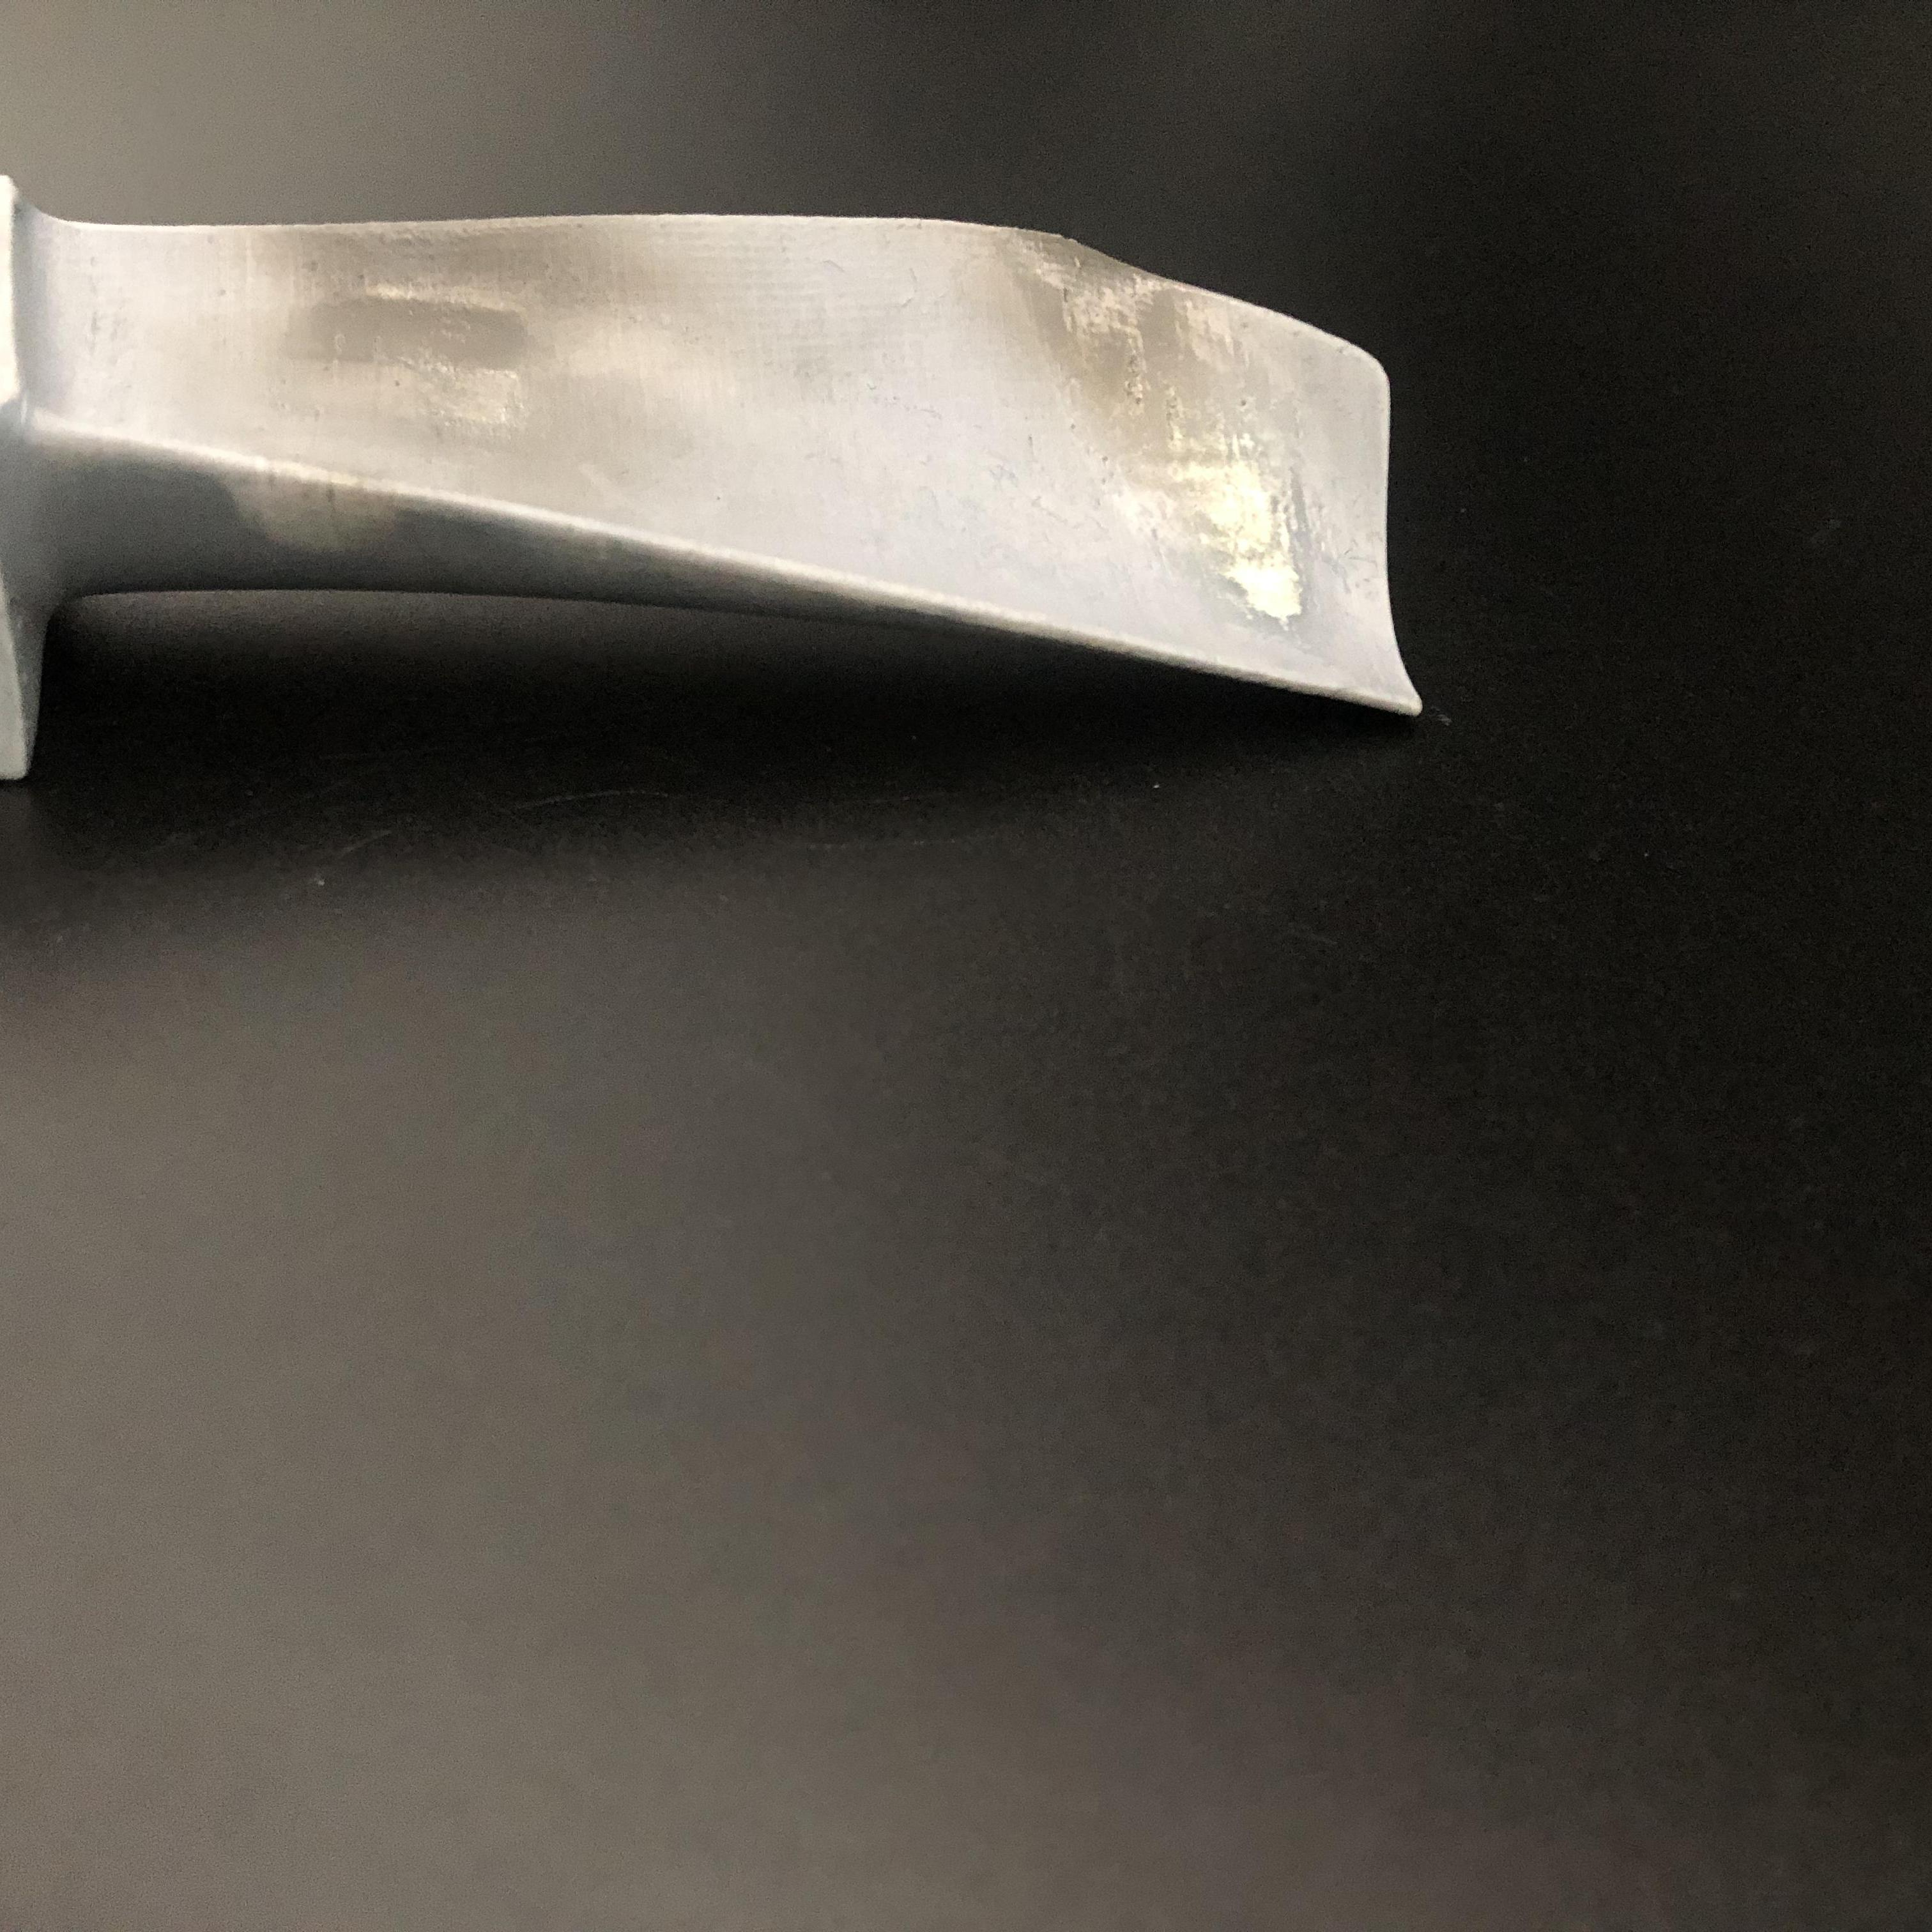ablation: (989, 234, 1323, 626), (265, 246, 729, 518)
